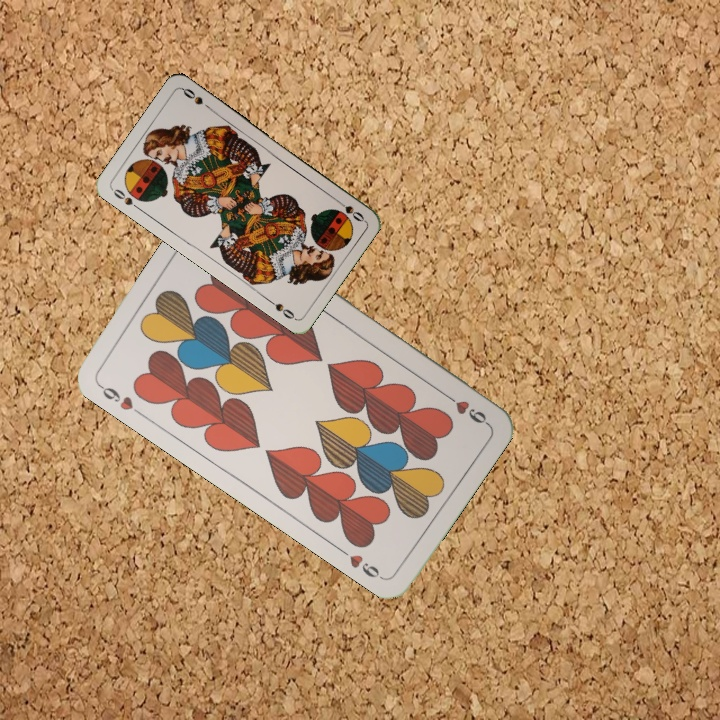H9: (439, 388, 491, 428), (94, 379, 136, 413)
SO: (331, 195, 367, 225), (108, 185, 143, 213)
